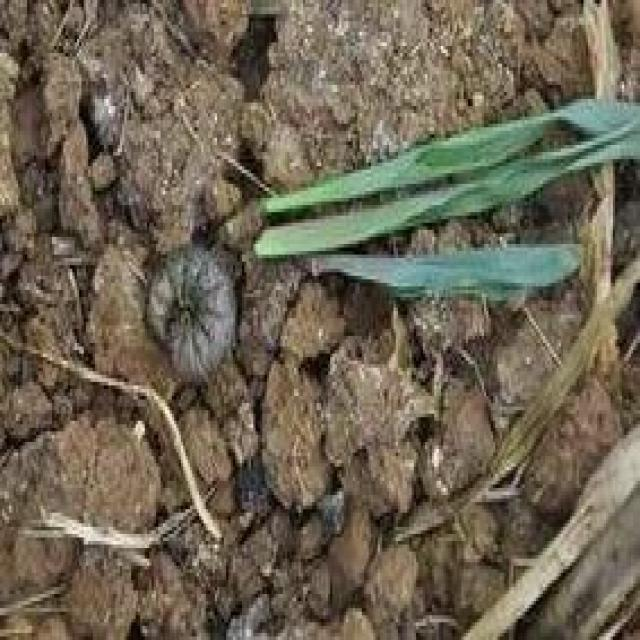black cutworm: (140, 247, 242, 378)
